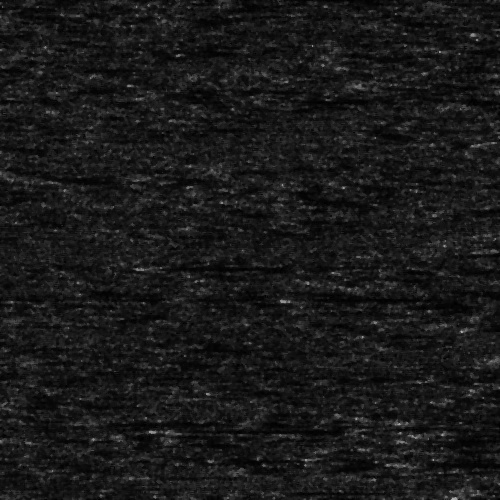object: (359, 457, 452, 468), (109, 261, 182, 272), (108, 464, 149, 483), (473, 204, 500, 217), (461, 137, 500, 144), (146, 426, 199, 431), (70, 418, 123, 423), (260, 488, 291, 493), (331, 498, 404, 500)
shadow: (146, 261, 266, 272), (406, 457, 500, 468), (129, 464, 172, 483), (173, 426, 302, 431), (96, 418, 220, 423), (276, 488, 368, 493), (368, 498, 500, 500)
